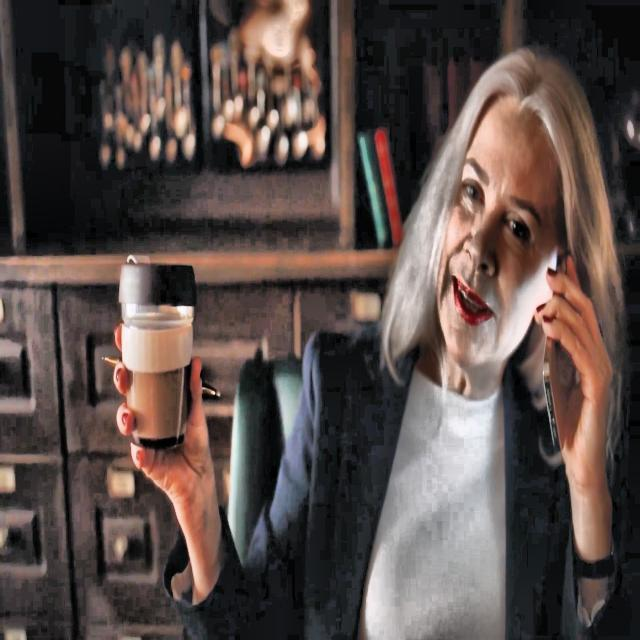Phone: (542, 243, 579, 454)
